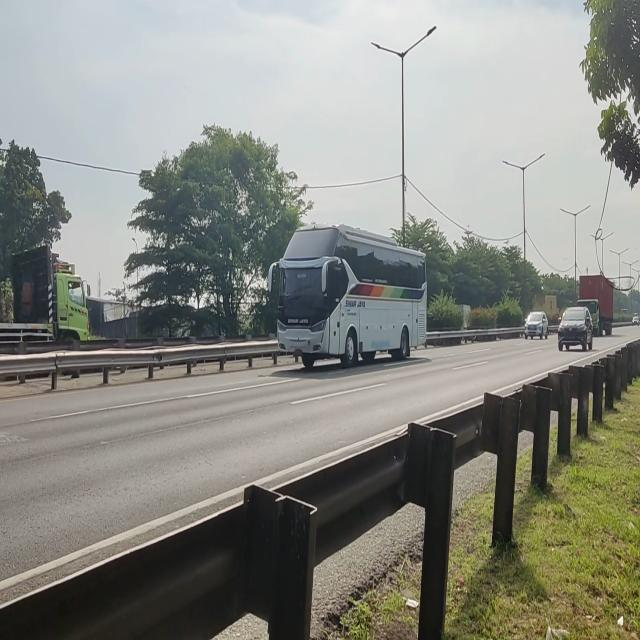Golongan I: (275, 222, 429, 370)
